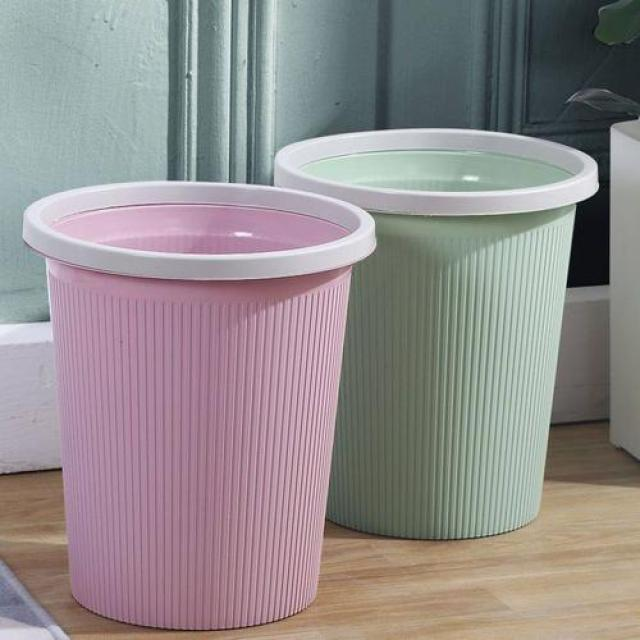dustbin: (18, 176, 382, 635), (271, 123, 605, 549)
